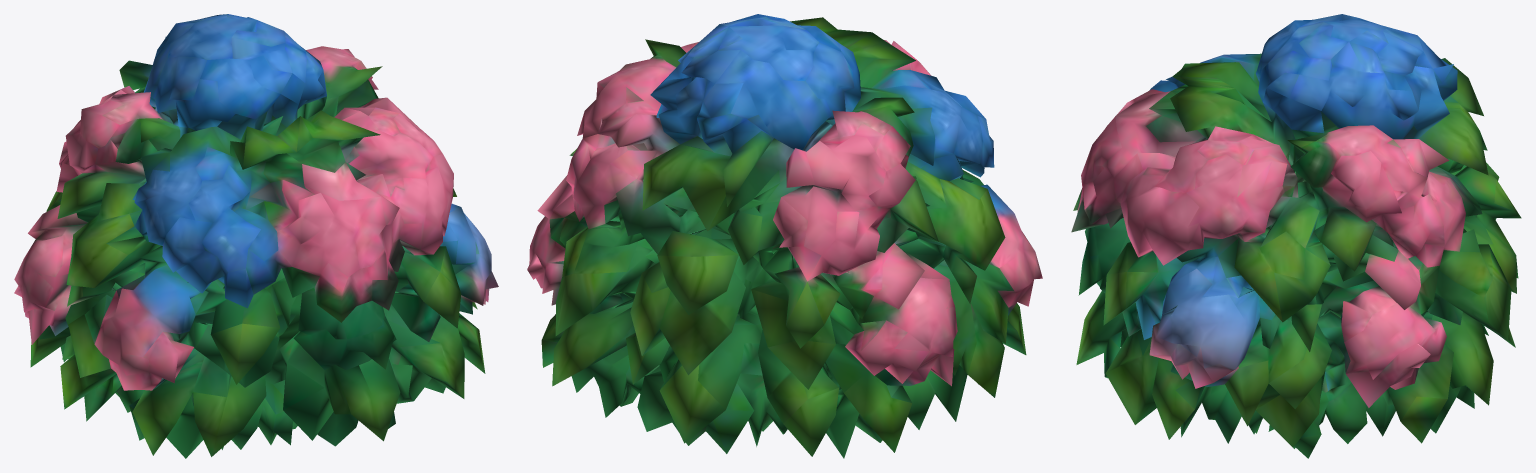
File: hydrangeas.glb
3 renders of one model, left to right at view 1: azimuth 30°, elevation 25°; view 2: azimuth 150°, elevation 25°; view 3: azimuth 270°, elevation 25°, orthographic. The views are drawn at different scales.
Parts seen in each view (by area): view 1: model; view 2: model; view 3: model.
Part boxes in pixels (<box>): model: <box>14,14,498,458</box>; model: <box>527,14,1042,458</box>; model: <box>1071,14,1521,458</box>.
Bounding box in the file's own units: 1.9 × 1.6 × 1.84.
Materials: 1 (1 with a texture image).
